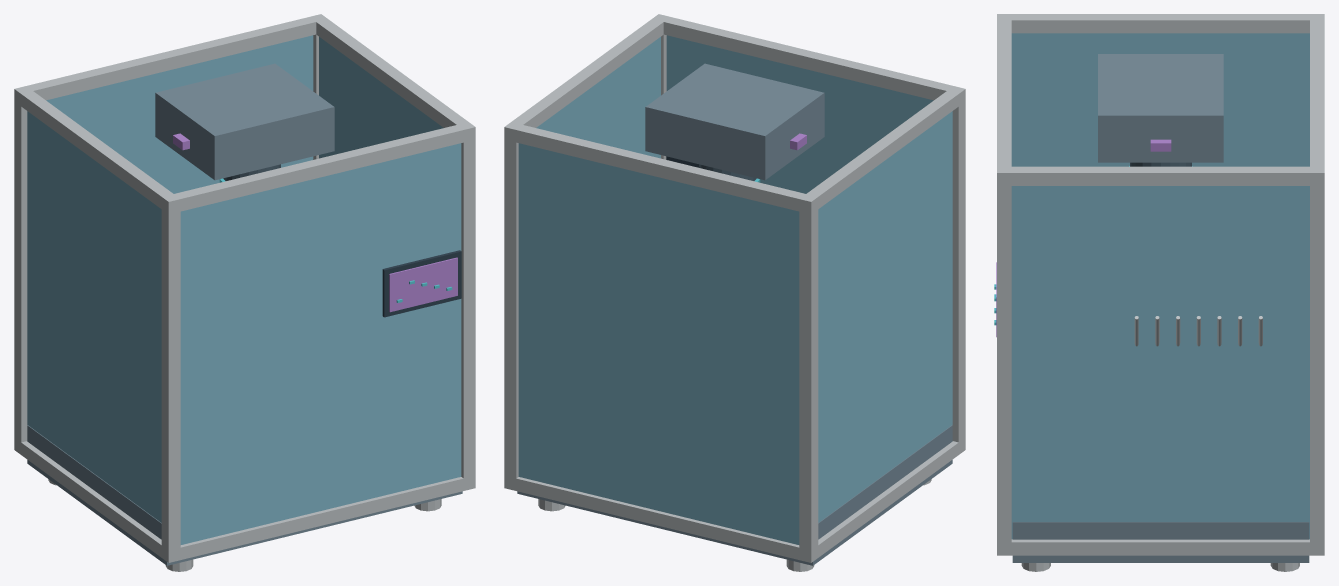
Rendered from 49_L79_InfraredBondVoidTomography.glb.
3 renders of one model, left to right at view 1: azimuth 30°, elevation 25°; view 2: azimuth 150°, elevation 25°; view 3: azimuth 270°, elevation 25°, orthographic. The views are drawn at different scales.
Visible parts, largest first — view 1: InfraredBondVoidTomography_Node_0030, InfraredBondVoidTomography_Node_0031, InfraredBondVoidTomography_Node_0066, InfraredBondVoidTomography_Node_0029, InfraredBondVoidTomography_Node_0018, InfraredBondVoidTomography_Node_0032, InfraredBondVoidTomography_Node_0026, InfraredBondVoidTomography_Node_0025, InfraredBondVoidTomography_Node_0020, InfraredBondVoidTomography_Node_0017, InfraredBondVoidTomography_Node_0022, InfraredBondVoidTomography_Node_0000 (+5 smaller); view 2: InfraredBondVoidTomography_Node_0029, InfraredBondVoidTomography_Node_0031, InfraredBondVoidTomography_Node_0066, InfraredBondVoidTomography_Node_0030, InfraredBondVoidTomography_Node_0017, InfraredBondVoidTomography_Node_0032, InfraredBondVoidTomography_Node_0025, InfraredBondVoidTomography_Node_0026, InfraredBondVoidTomography_Node_0019, InfraredBondVoidTomography_Node_0018, InfraredBondVoidTomography_Node_0021, InfraredBondVoidTomography_Node_0000 (+3 smaller); view 3: InfraredBondVoidTomography_Node_0032, InfraredBondVoidTomography_Node_0031, InfraredBondVoidTomography_Node_0066, InfraredBondVoidTomography_Node_0000, InfraredBondVoidTomography_Node_0028, InfraredBondVoidTomography_Node_0027, InfraredBondVoidTomography_Node_0019, InfraredBondVoidTomography_Node_0020, InfraredBondVoidTomography_Node_0024, InfraredBondVoidTomography_Node_0025, InfraredBondVoidTomography_Node_0026.
Boxes of the visible parts, <box> form: InfraredBondVoidTomography_Node_0030: <box>180,143,461,544</box>; InfraredBondVoidTomography_Node_0031: <box>27,111,161,522</box>; InfraredBondVoidTomography_Node_0066: <box>155,63,334,180</box>; InfraredBondVoidTomography_Node_0029: <box>46,35,313,193</box>; InfraredBondVoidTomography_Node_0018: <box>161,195,180,562</box>; InfraredBondVoidTomography_Node_0032: <box>319,37,443,158</box>; InfraredBondVoidTomography_Node_0026: <box>162,122,475,213</box>; InfraredBondVoidTomography_Node_0025: <box>14,14,326,103</box>; InfraredBondVoidTomography_Node_0020: <box>458,122,475,490</box>; InfraredBondVoidTomography_Node_0017: <box>14,86,31,454</box>; InfraredBondVoidTomography_Node_0022: <box>162,477,475,562</box>; InfraredBondVoidTomography_Node_0000: <box>27,425,462,565</box>; InfraredBondVoidTomography_Node_0029: <box>518,143,799,544</box>; InfraredBondVoidTomography_Node_0031: <box>818,111,952,522</box>; InfraredBondVoidTomography_Node_0066: <box>645,63,824,180</box>; InfraredBondVoidTomography_Node_0030: <box>666,35,933,193</box>; InfraredBondVoidTomography_Node_0017: <box>799,194,818,562</box>; InfraredBondVoidTomography_Node_0032: <box>536,37,660,158</box>; InfraredBondVoidTomography_Node_0025: <box>504,122,818,213</box>; InfraredBondVoidTomography_Node_0026: <box>652,15,964,102</box>; InfraredBondVoidTomography_Node_0019: <box>504,122,521,490</box>; InfraredBondVoidTomography_Node_0018: <box>947,86,965,454</box>; InfraredBondVoidTomography_Node_0021: <box>504,476,817,562</box>; InfraredBondVoidTomography_Node_0000: <box>517,425,952,565</box>; InfraredBondVoidTomography_Node_0032: <box>1011,186,1309,539</box>; InfraredBondVoidTomography_Node_0031: <box>1011,33,1309,166</box>; InfraredBondVoidTomography_Node_0066: <box>1098,54,1223,162</box>; InfraredBondVoidTomography_Node_0000: <box>1012,522,1309,562</box>; InfraredBondVoidTomography_Node_0028: <box>997,166,1323,185</box>; InfraredBondVoidTomography_Node_0027: <box>997,14,1322,33</box>; InfraredBondVoidTomography_Node_0019: <box>1310,166,1324,555</box>; InfraredBondVoidTomography_Node_0020: <box>997,166,1011,555</box>; InfraredBondVoidTomography_Node_0024: <box>1004,539,1319,555</box>; InfraredBondVoidTomography_Node_0025: <box>1310,14,1324,185</box>; InfraredBondVoidTomography_Node_0026: <box>997,14,1011,185</box>.
Size of the model in its own units: 2.3 by 2.67 by 1.92.
